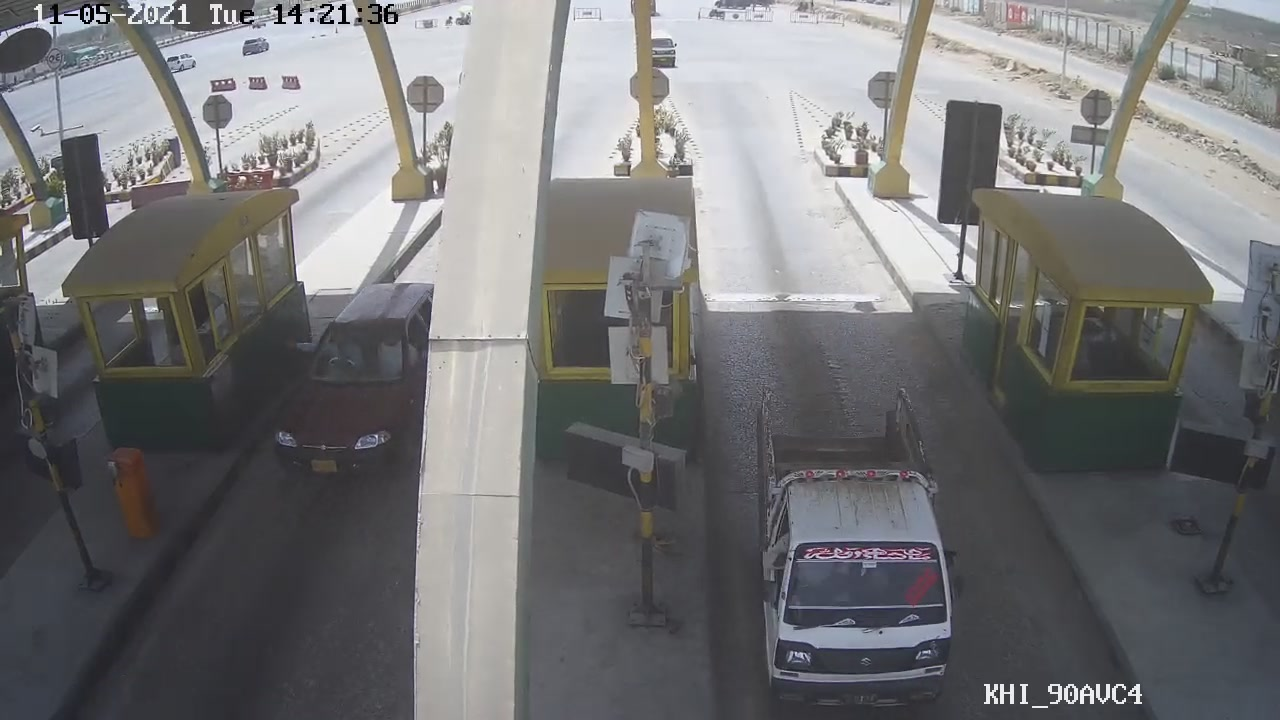F1: (752, 376, 970, 715)
